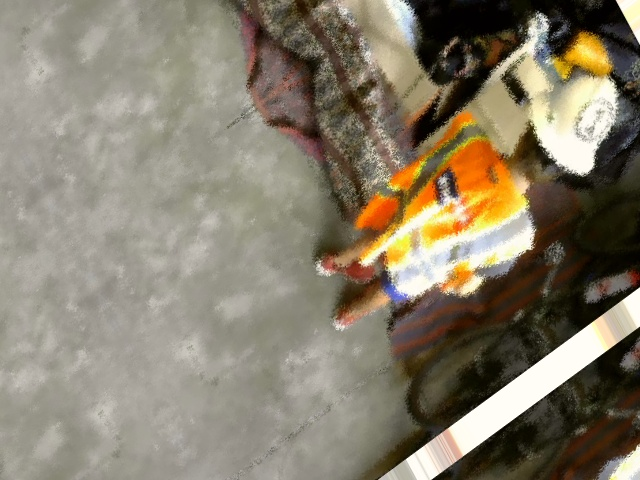one: (569, 92, 619, 146)
